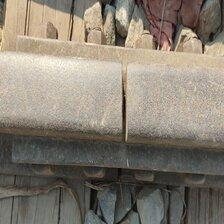railway-gap: (78, 58, 170, 150)
